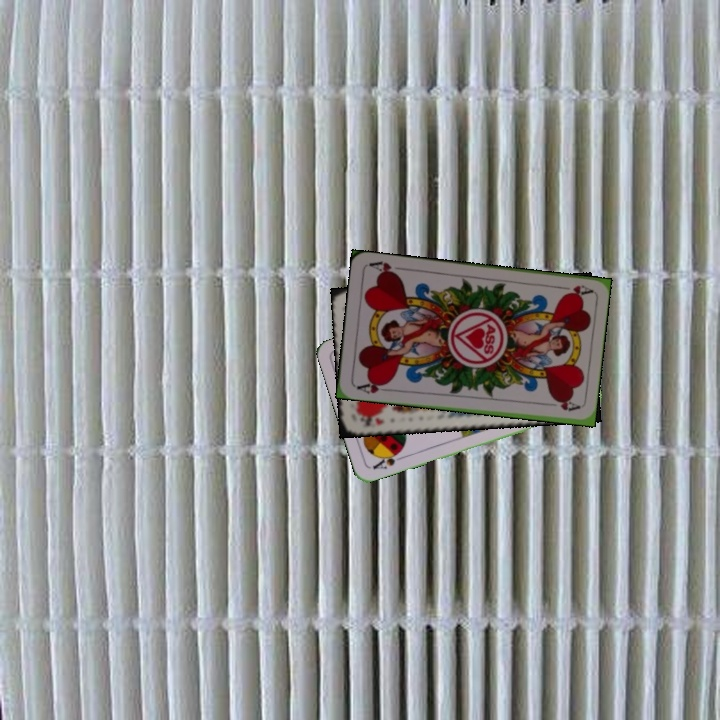HA: (353, 377, 393, 396), (553, 281, 593, 299)
HK: (356, 412, 387, 430)
SA: (368, 446, 407, 472)
